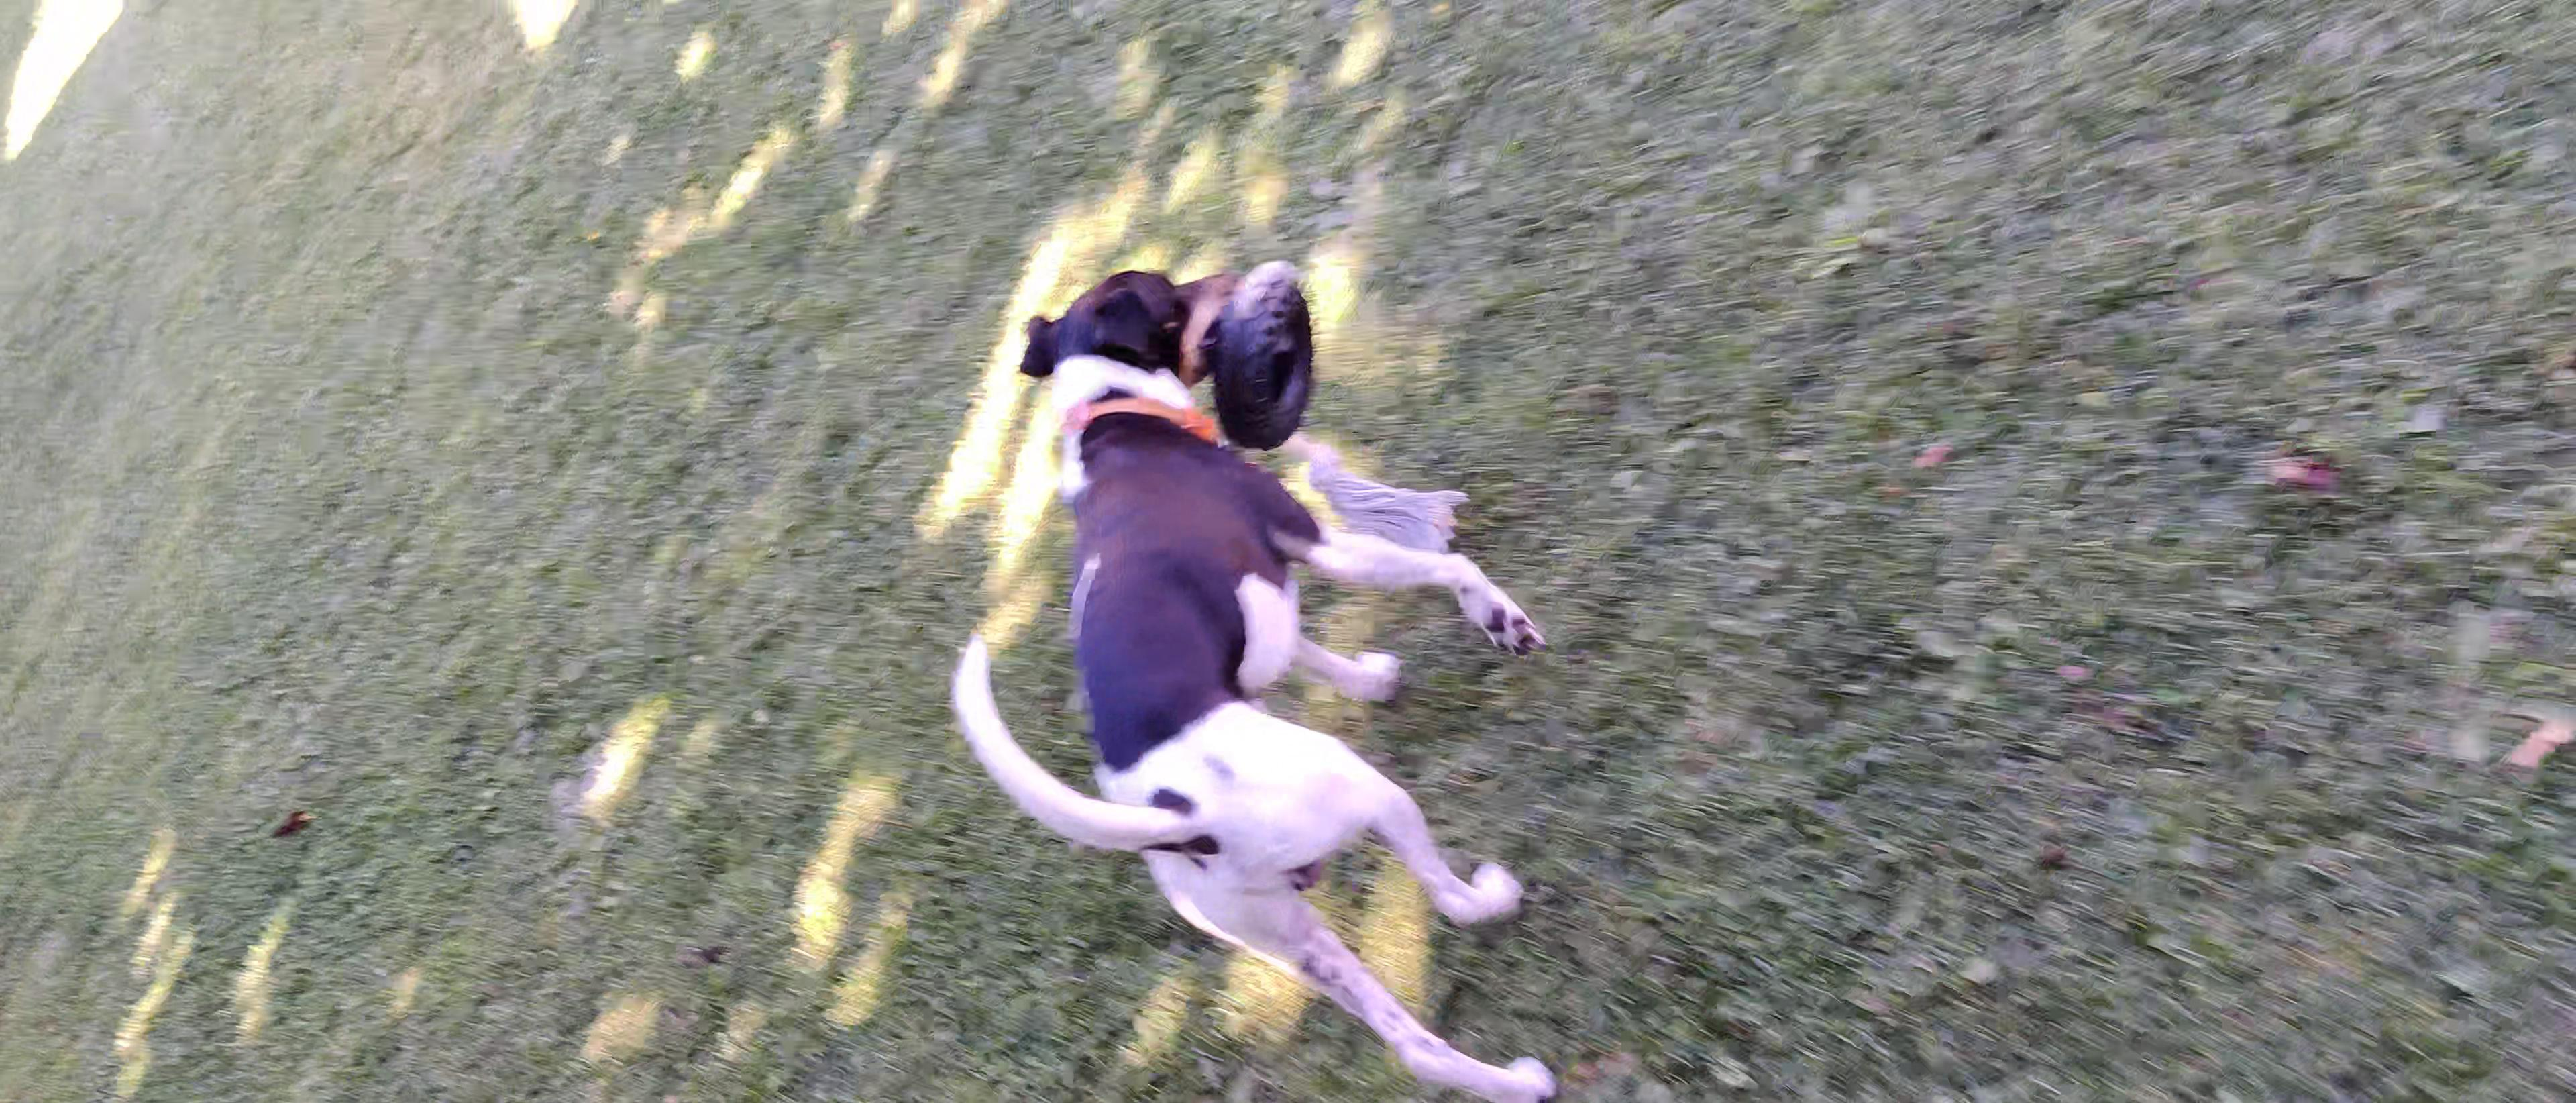Dog: (938, 268, 1562, 1103)
